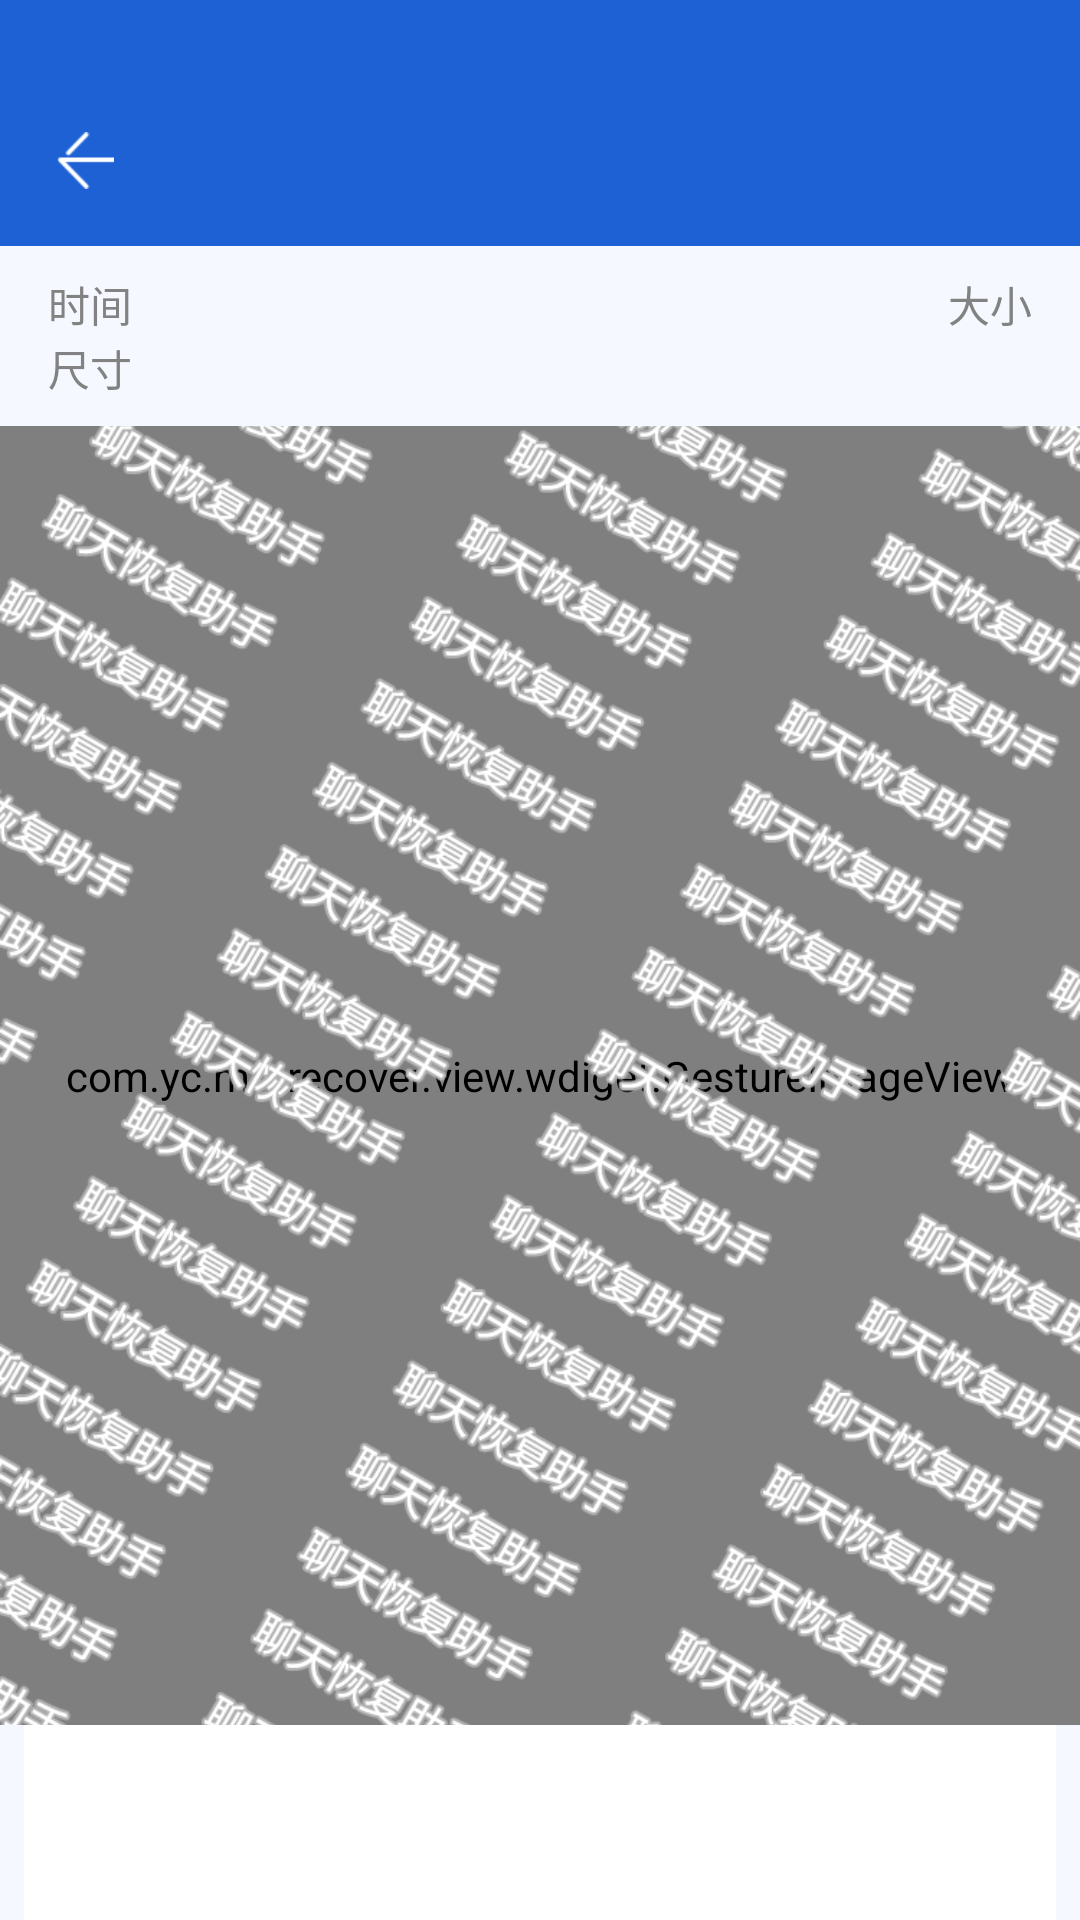

Icons on this 1080*1920 Android screen, each with the point to tap as (x=x, y=y):
back: (x=85, y=160)
